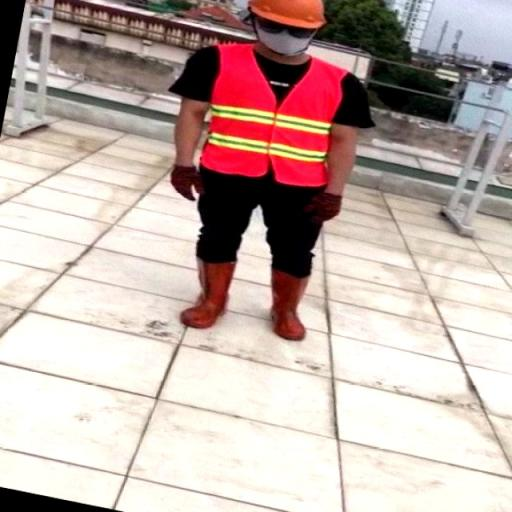Person: (148, 3, 378, 369)
boots: (175, 256, 237, 338), (262, 263, 312, 350)
gloves: (166, 156, 205, 206), (310, 190, 344, 233)
goggles: (250, 19, 321, 39)
helmet: (244, 1, 338, 32)
vest: (199, 39, 346, 194)
